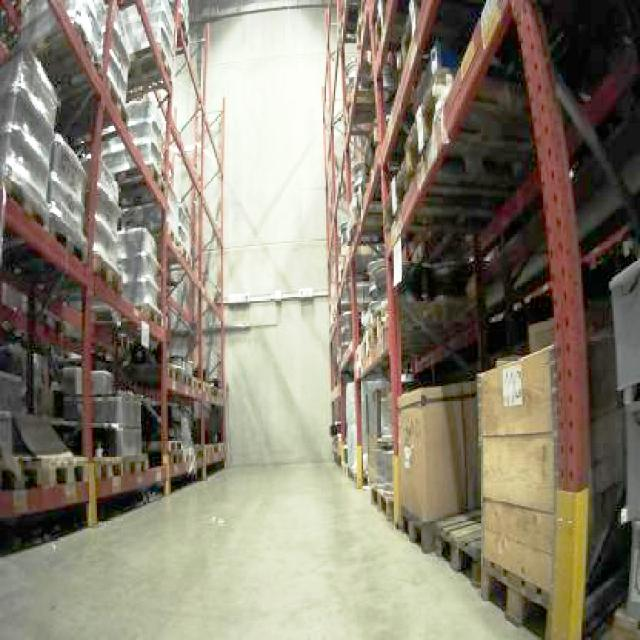ground: (0, 457, 638, 638)
pallet: (325, 0, 638, 638), (474, 338, 591, 638), (606, 226, 638, 638)
